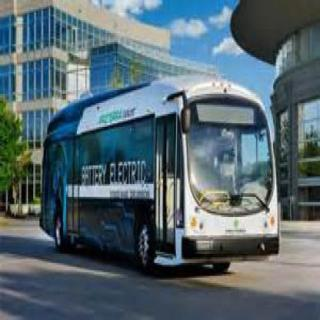Normal_vehicle: (37, 57, 288, 288)
